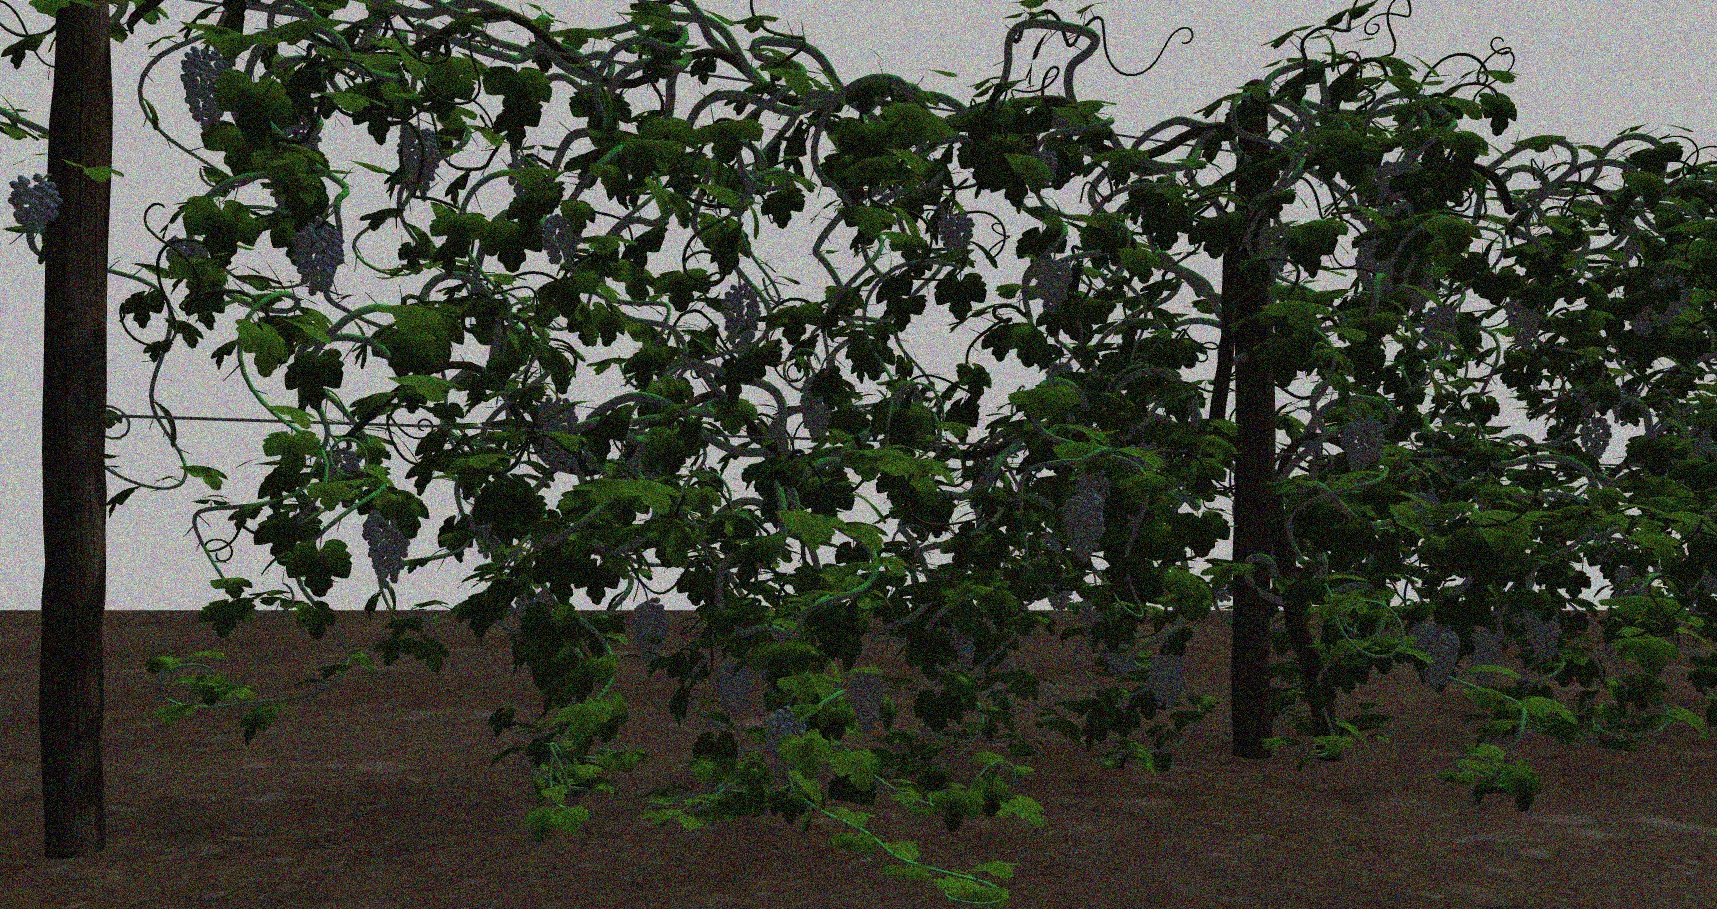grape: (291, 217, 346, 297), (1064, 468, 1111, 562), (181, 44, 229, 130), (362, 509, 412, 585), (396, 122, 441, 203), (7, 169, 62, 233), (633, 597, 673, 673), (720, 282, 763, 353), (537, 394, 580, 466), (1416, 618, 1459, 690), (712, 650, 755, 719), (1338, 414, 1387, 473), (848, 670, 886, 737), (538, 214, 583, 268), (1524, 607, 1565, 664), (798, 378, 834, 443), (938, 202, 975, 262), (1035, 258, 1074, 314), (1504, 297, 1543, 351), (1358, 237, 1394, 297), (764, 703, 814, 745), (1649, 275, 1690, 326), (1468, 628, 1504, 687), (937, 622, 977, 674), (1147, 653, 1186, 707), (1257, 223, 1291, 276), (1423, 303, 1460, 347), (1102, 637, 1140, 677), (1580, 416, 1613, 462)
